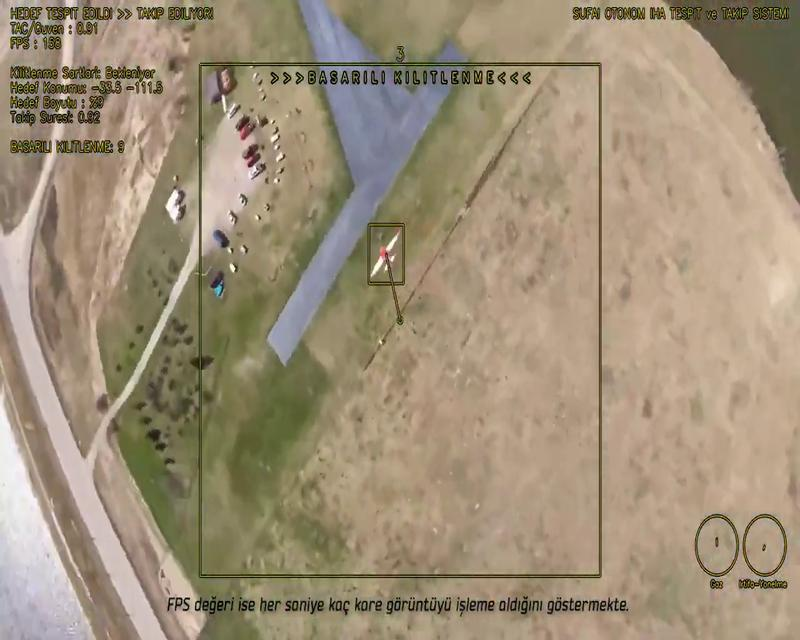UAV: (371, 228, 400, 278)
